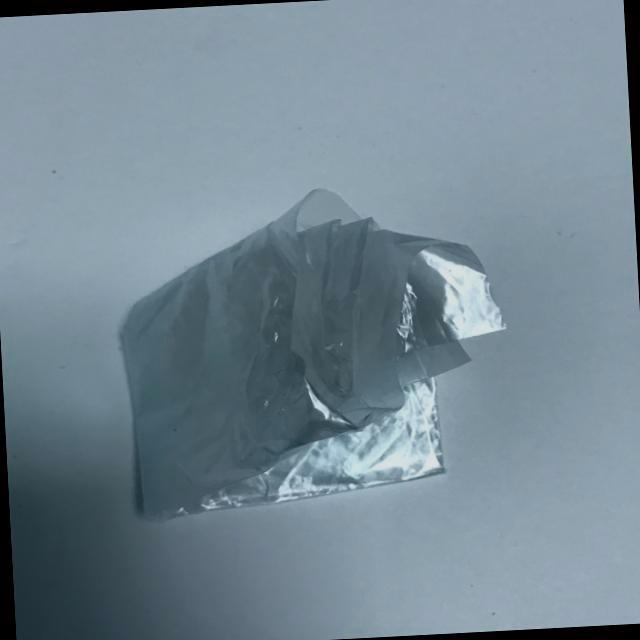plastic: (90, 166, 540, 536)
